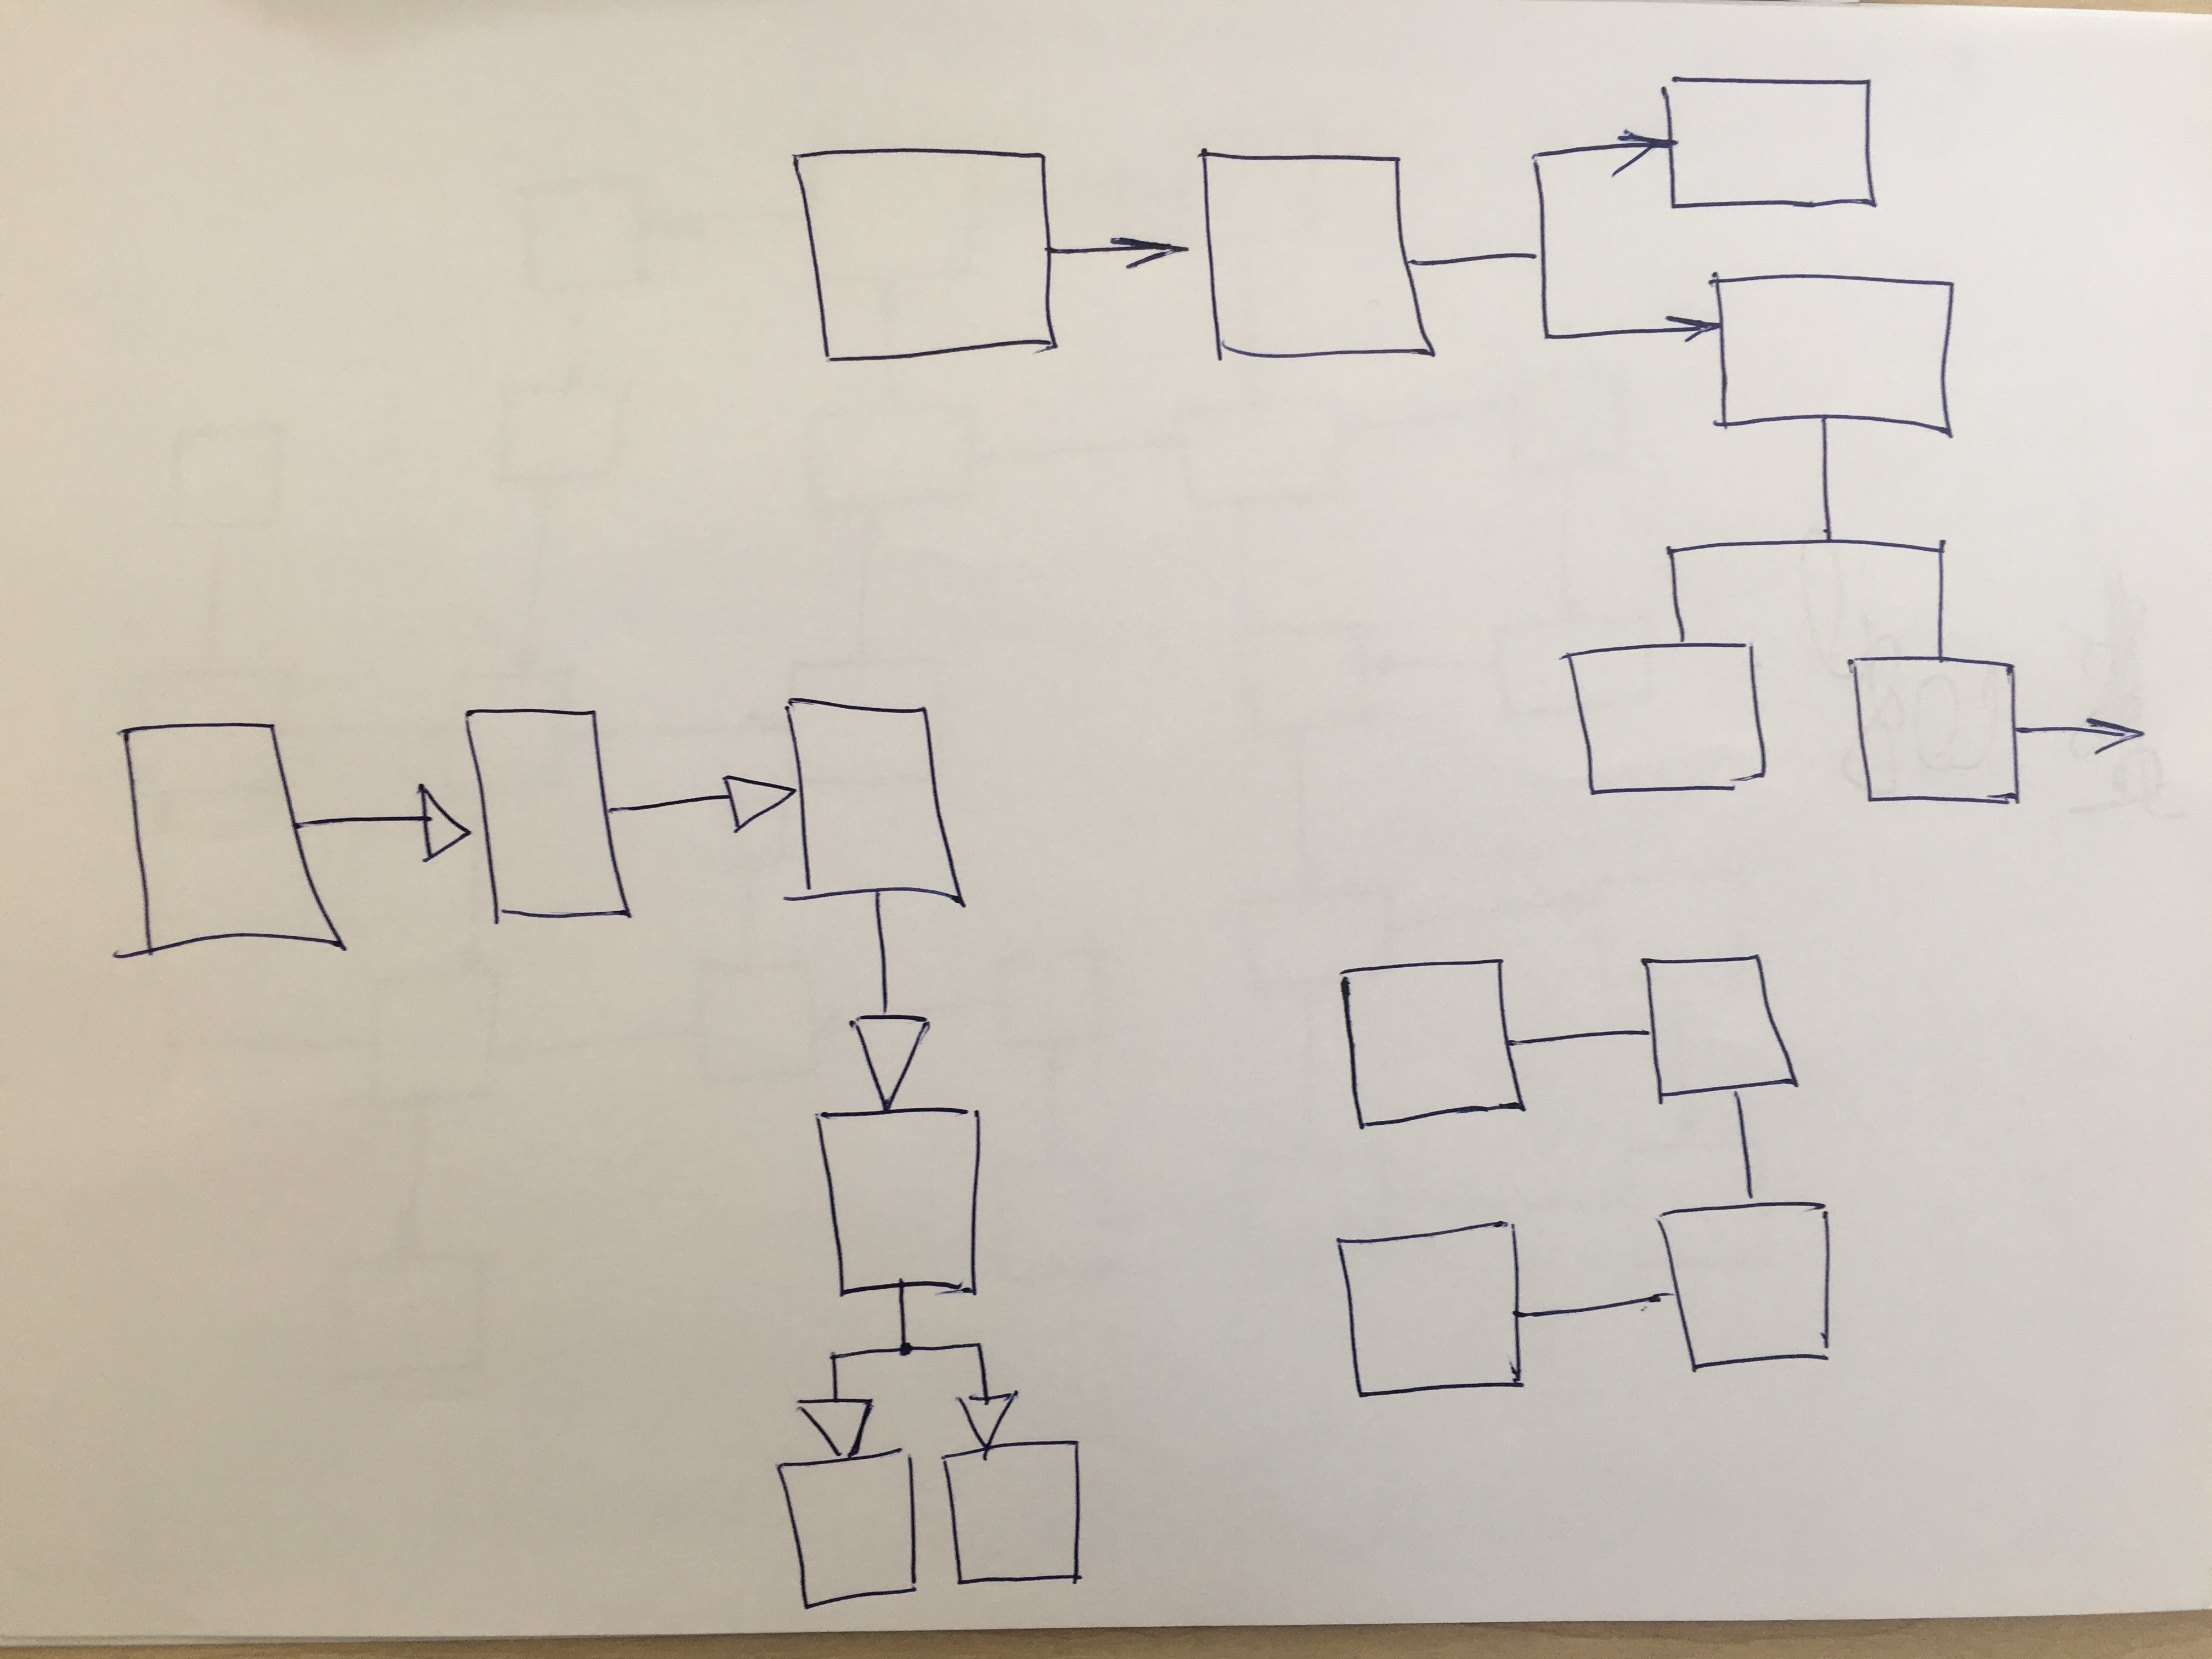arrow: (843, 999, 939, 1131), (378, 777, 479, 877), (709, 760, 812, 843), (951, 1368, 1026, 1476), (799, 1387, 880, 1480), (1099, 227, 1200, 291), (2059, 708, 2158, 767), (1597, 117, 1684, 183), (1644, 296, 1735, 359)
